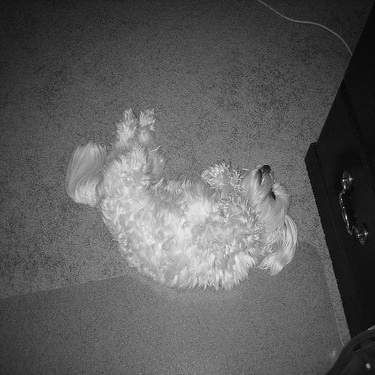dog: (59, 95, 302, 294)
